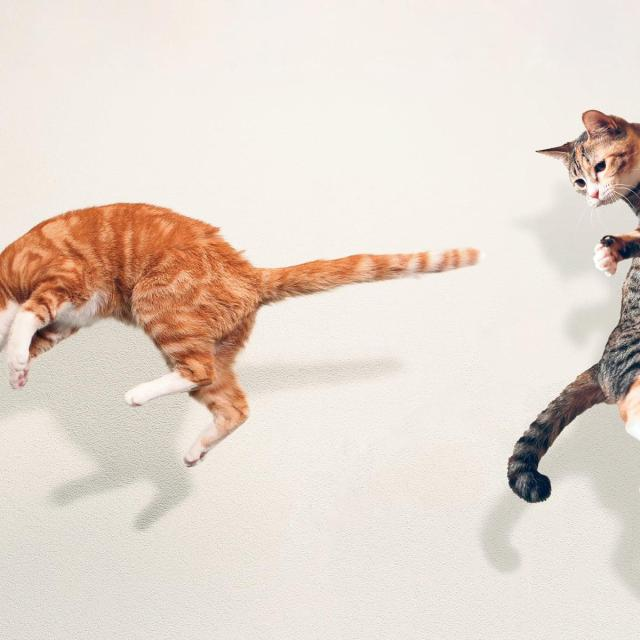Cat: (529, 103, 640, 209)
